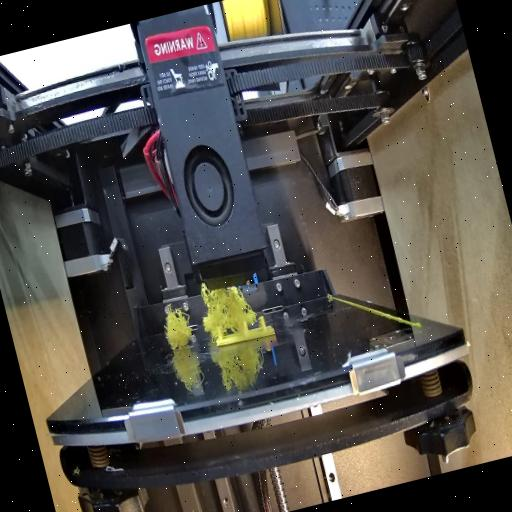spaghetti: (192, 271, 252, 333), (158, 305, 196, 351)
